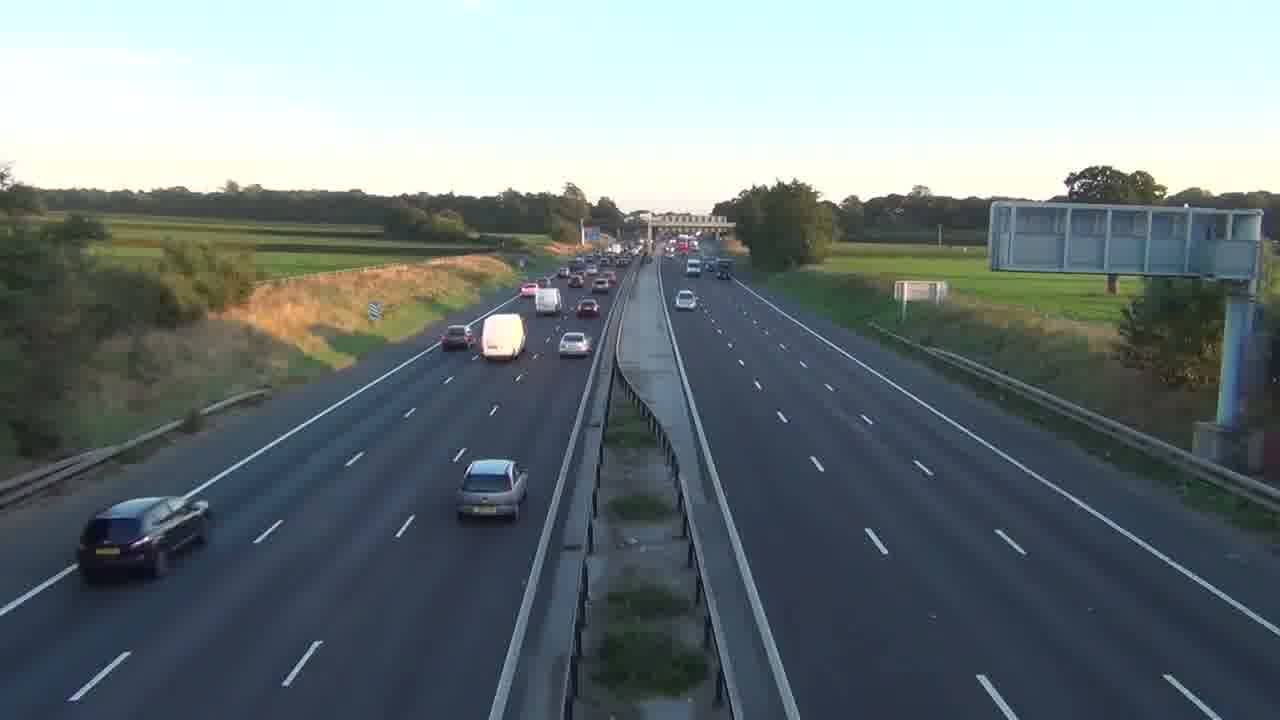car: (455, 458, 530, 519), (440, 325, 467, 351), (674, 288, 698, 310), (576, 298, 600, 319)
truck: (78, 495, 211, 582), (479, 311, 526, 362), (534, 286, 563, 315)
